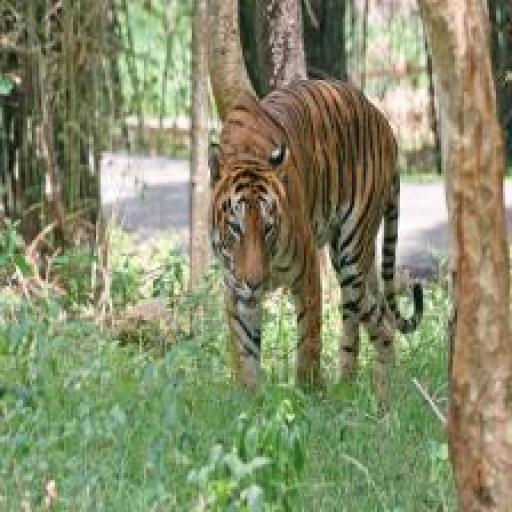Tiger: (180, 48, 452, 486)
